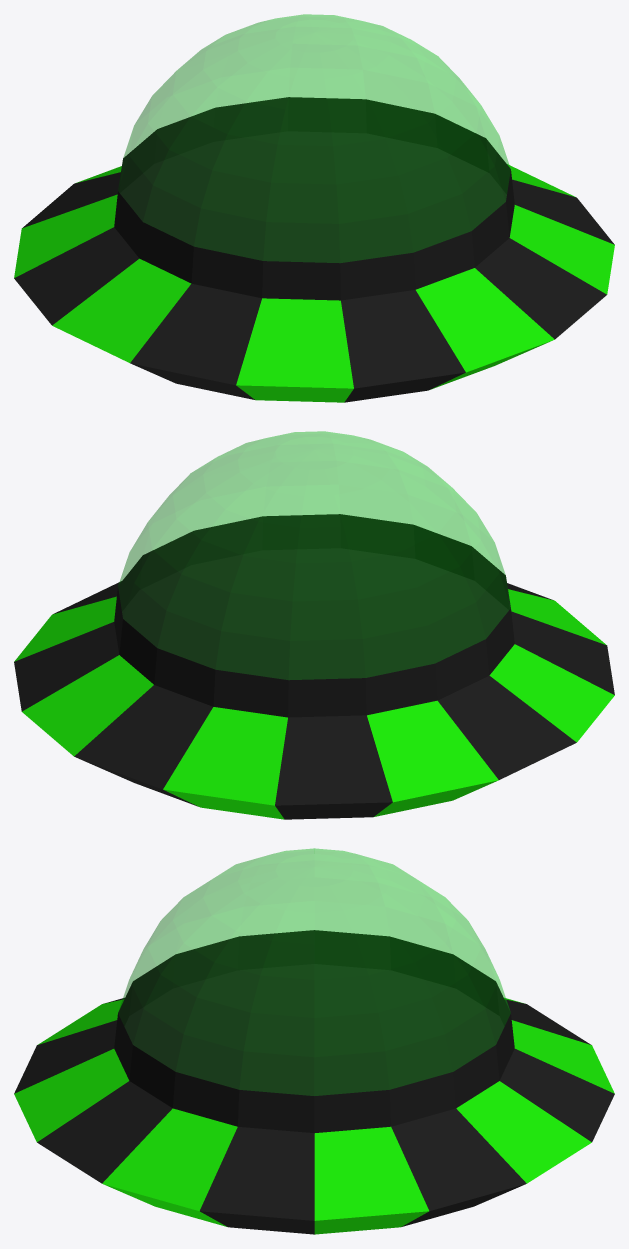
Rendered from Nave.glb.
3 views of the same model, one above another, from view 1: azimuth 30°, elevation 25°; view 2: azimuth 150°, elevation 25°; view 3: azimuth 270°, elevation 25° (orthographic).
Parts seen in each view (by area): view 1: Jugador; view 2: Jugador; view 3: Jugador.
Part boxes in pixels (x1=…): Jugador: x1=14, y1=14, x2=614, y2=402; Jugador: x1=14, y1=431, x2=614, y2=819; Jugador: x1=14, y1=848, x2=614, y2=1234.
Size of the model in its own units: 3 by 1.63 by 3.
